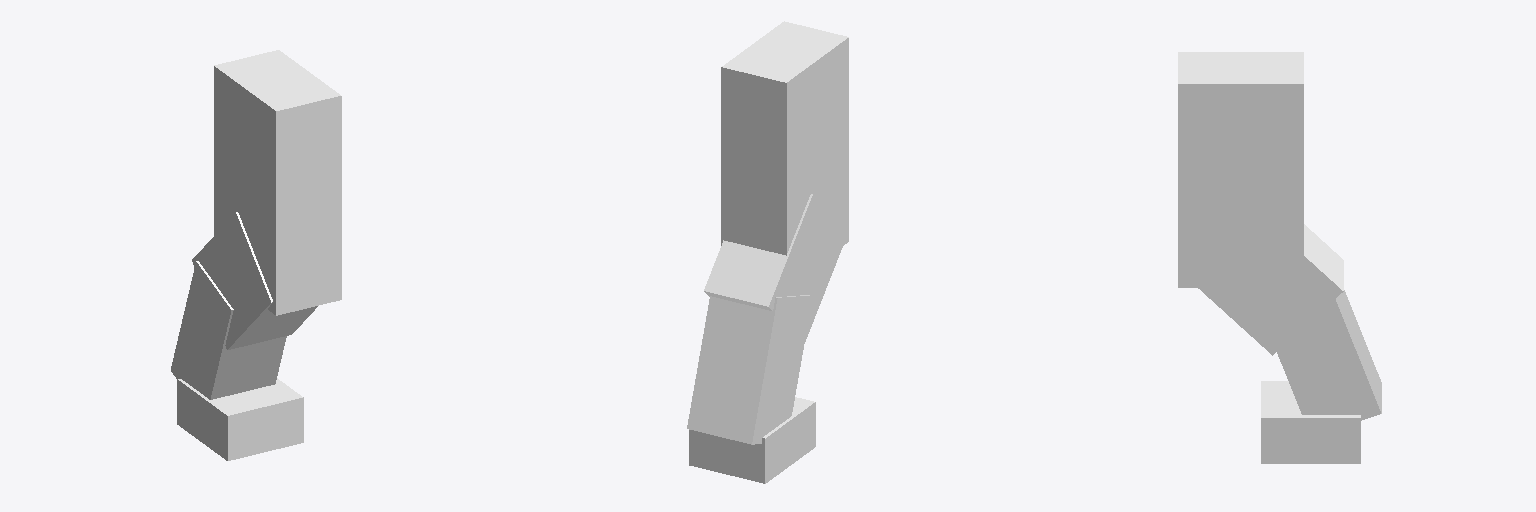
File: lion_hind_left_leg.obj
3 renders of one model, left to right at view 1: azimuth 30°, elevation 25°; view 2: azimuth 150°, elevation 25°; view 3: azimuth 270°, elevation 25°, orthographic.
Visible parts, largest first — view 1: Element #3, Element #4, Element #6, Element #2; view 2: Element #3, Element #4, Element #2, Element #6; view 3: Element #3, Element #4, Element #2, Element #6.
Part boxes in pixels (bbox=[...]): Element #3: bbox=[214, 50, 341, 315]; Element #4: bbox=[171, 261, 286, 399]; Element #6: bbox=[177, 378, 303, 460]; Element #2: bbox=[192, 212, 317, 349]; Element #3: bbox=[721, 21, 848, 255]; Element #4: bbox=[687, 295, 812, 444]; Element #2: bbox=[704, 194, 847, 341]; Element #6: bbox=[689, 397, 815, 483]; Element #3: bbox=[1178, 52, 1303, 287]; Element #4: bbox=[1277, 290, 1381, 420]; Element #2: bbox=[1198, 224, 1343, 355]; Element #6: bbox=[1261, 381, 1360, 463].
Size of the model in its own units: 3.5 by 16.65 by 8.1.